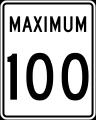Speed Limit -100-: (4, 44, 91, 107)
